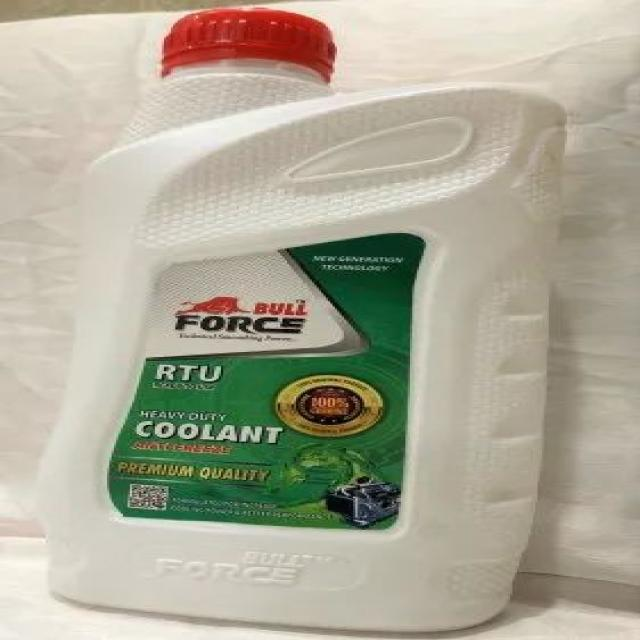coolant: (41, 8, 572, 636)
